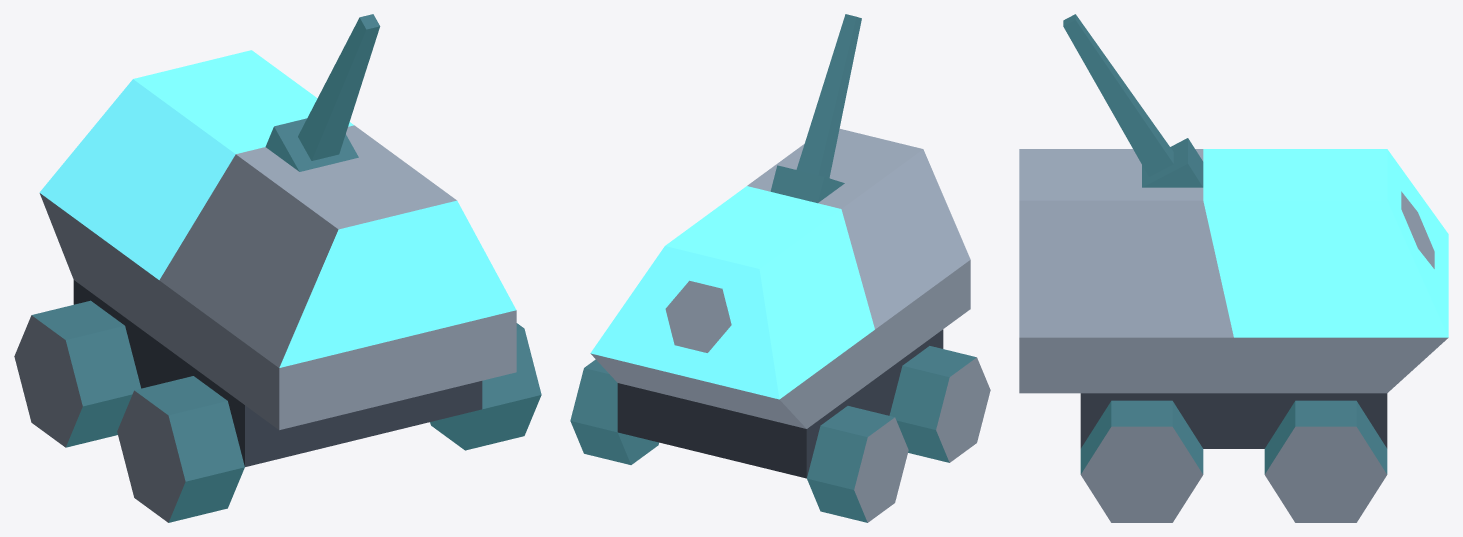
File: rover.glb
3 renders of one model, left to right at view 1: azimuth 30°, elevation 25°; view 2: azimuth 150°, elevation 25°; view 3: azimuth 270°, elevation 25°, orthographic. The views are drawn at different scales.
Parts seen in each view (by area): view 1: rover; view 2: rover; view 3: rover.
Part boxes in pixels (<box>): rover: <box>14,14,541,522</box>; rover: <box>570,14,990,522</box>; rover: <box>1019,14,1448,522</box>.
Size of the model in its own units: 0.3 by 0.3853 by 0.35.
